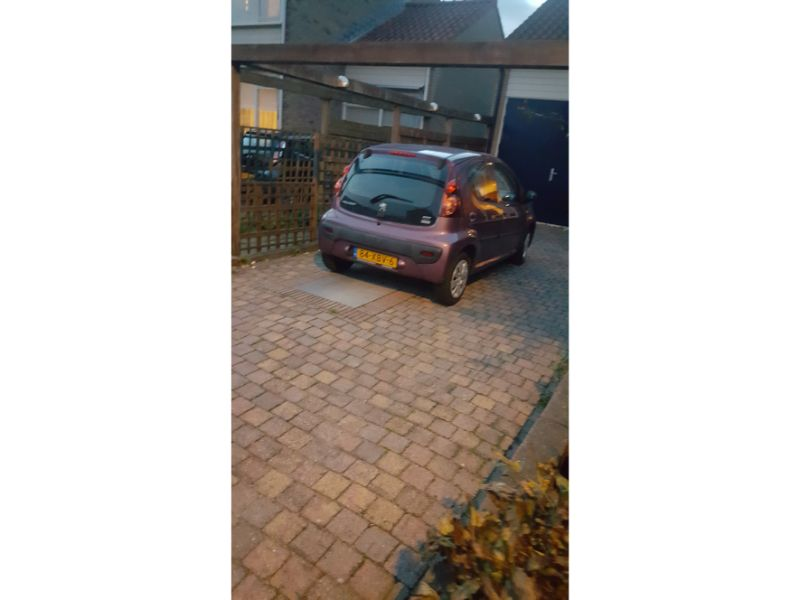kenteken: (351, 244, 401, 273)
